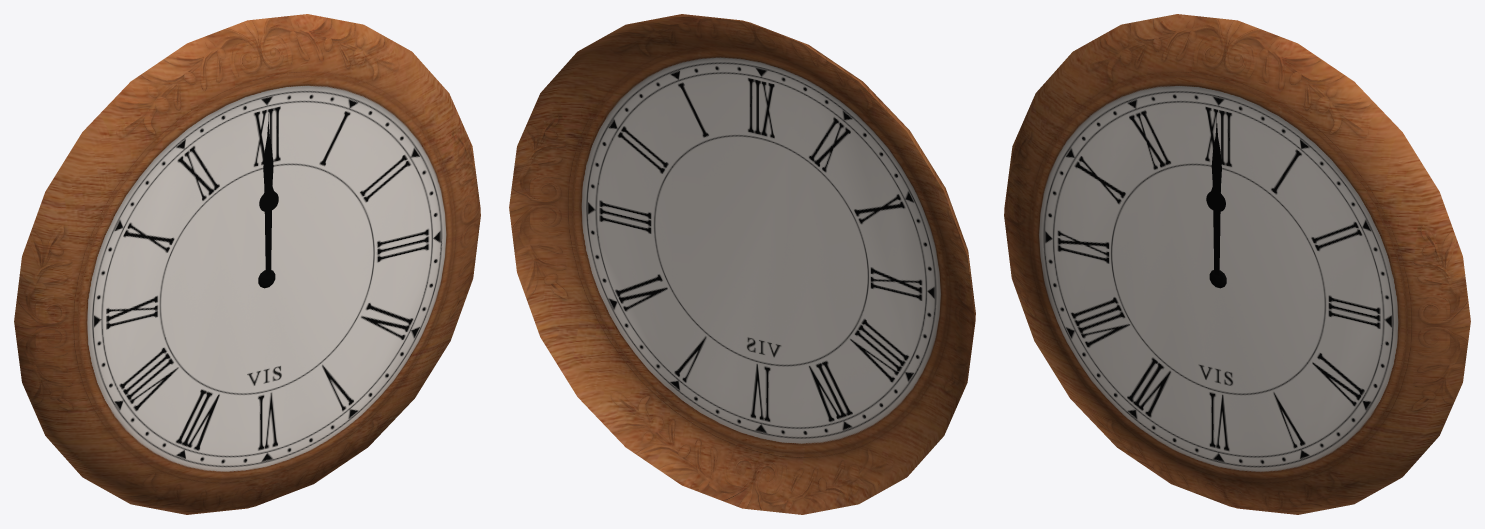
The model's file is wanduhr_02.fbx.
3 views of the same model, side by side, from view 1: azimuth 30°, elevation 25°; view 2: azimuth 150°, elevation 25°; view 3: azimuth 330°, elevation 25° (orthographic).
Visible parts, largest first — view 1: wanduhr_02, stundenzeiger, minutenzeiger; view 2: wanduhr_02; view 3: wanduhr_02, stundenzeiger, minutenzeiger.
Part boxes in pixels (x1,y1,x2,y2): wanduhr_02: (14, 14, 480, 514); stundenzeiger: (259, 158, 278, 275); minutenzeiger: (263, 113, 273, 275); wanduhr_02: (509, 14, 975, 514); wanduhr_02: (1004, 14, 1470, 514); stundenzeiger: (1206, 158, 1225, 275); minutenzeiger: (1211, 113, 1221, 275).
Bounding box in the file's own units: 97.31 × 97.31 × 7.82.
